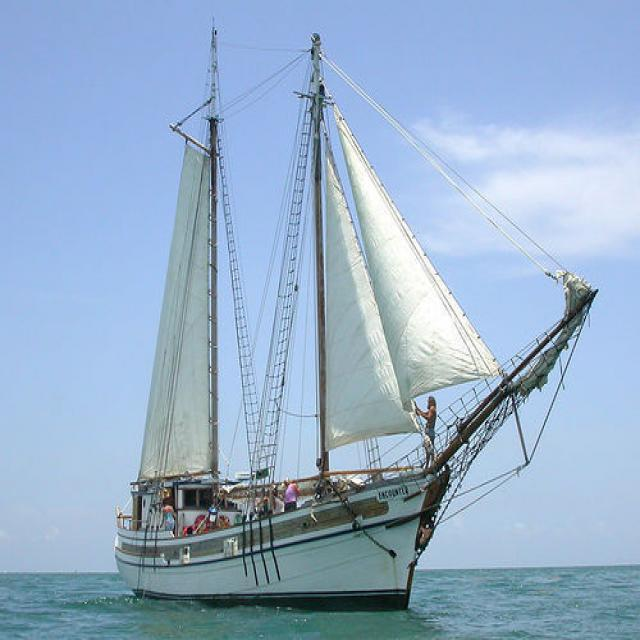Ship: (98, 30, 604, 621)
